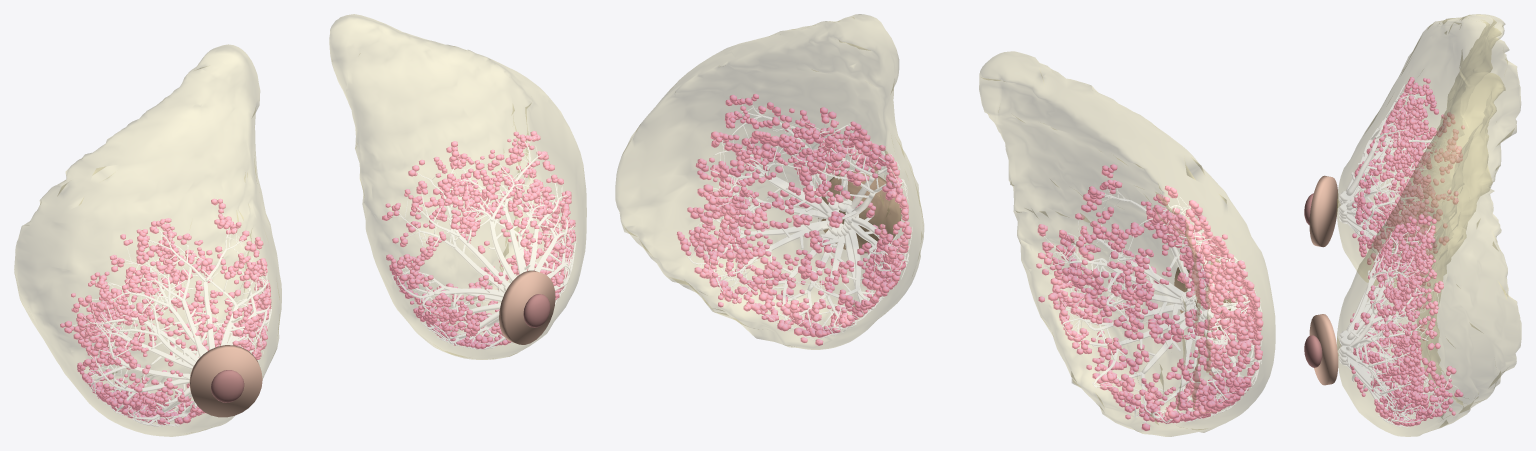
The model's file is breast_female.glb.
The picture shows the model from 3 angles, left to right: view 1: azimuth 30°, elevation 25°; view 2: azimuth 150°, elevation 25°; view 3: azimuth 270°, elevation 25°; orthographic projection. The views are drawn at different scales.
Visible parts, largest first — view 1: VH_F_fat_L, VH_F_fat_R, VH_F_lobules_of_mammary_gland_L, VH_F_lobules_of_mammary_gland_R, VH_F_lactiferous_ducts_L, VH_F_lactiferous_ducts_R, VH_F_areola_L, VH_F_areola_R, VH_F_nipple_L, VH_F_nipple_R; view 2: VH_F_fat_R, VH_F_fat_L, VH_F_lobules_of_mammary_gland_L, VH_F_lobules_of_mammary_gland_R, VH_F_lactiferous_ducts_R, VH_F_lactiferous_ducts_L, VH_F_areola_R; view 3: VH_F_fat_R, VH_F_fat_L, VH_F_lobules_of_mammary_gland_R, VH_F_lobules_of_mammary_gland_L, VH_F_lactiferous_ducts_R, VH_F_lactiferous_ducts_L, VH_F_areola_L, VH_F_areola_R, VH_F_nipple_R, VH_F_lactiferous_sinuses_R, VH_F_lactiferous_sinuses_L.
Part boxes in pixels (<box>): VH_F_fat_L: <box>14,44,281,436</box>; VH_F_fat_R: <box>329,14,586,359</box>; VH_F_lobules_of_mammary_gland_L: <box>60,198,271,425</box>; VH_F_lobules_of_mammary_gland_R: <box>382,131,575,349</box>; VH_F_lactiferous_ducts_L: <box>71,213,271,426</box>; VH_F_lactiferous_ducts_R: <box>391,138,576,349</box>; VH_F_areola_L: <box>189,345,262,417</box>; VH_F_areola_R: <box>499,270,555,344</box>; VH_F_nipple_L: <box>211,370,244,402</box>; VH_F_nipple_R: <box>523,294,550,327</box>; VH_F_fat_R: <box>615,14,923,349</box>; VH_F_fat_L: <box>979,51,1275,436</box>; VH_F_lobules_of_mammary_gland_L: <box>1036,164,1263,431</box>; VH_F_lobules_of_mammary_gland_R: <box>676,93,911,345</box>; VH_F_lactiferous_ducts_R: <box>687,98,912,340</box>; VH_F_lactiferous_ducts_L: <box>1043,178,1262,423</box>; VH_F_areola_R: <box>818,170,901,253</box>; VH_F_fat_R: <box>1337,72,1521,436</box>; VH_F_fat_L: <box>1336,14,1520,288</box>; VH_F_lobules_of_mammary_gland_R: <box>1350,214,1463,426</box>; VH_F_lobules_of_mammary_gland_L: <box>1352,77,1464,285</box>; VH_F_lactiferous_ducts_R: <box>1345,224,1458,427</box>; VH_F_lactiferous_ducts_L: <box>1345,84,1458,278</box>; VH_F_areola_L: <box>1309,175,1338,247</box>; VH_F_areola_R: <box>1309,314,1338,385</box>; VH_F_nipple_R: <box>1304,335,1322,367</box>; VH_F_lactiferous_sinuses_R: <box>1339,330,1353,365</box>; VH_F_lactiferous_sinuses_L: <box>1339,191,1354,223</box>.
Size of the model in its own units: 0.2838 by 0.1669 by 0.1059.
